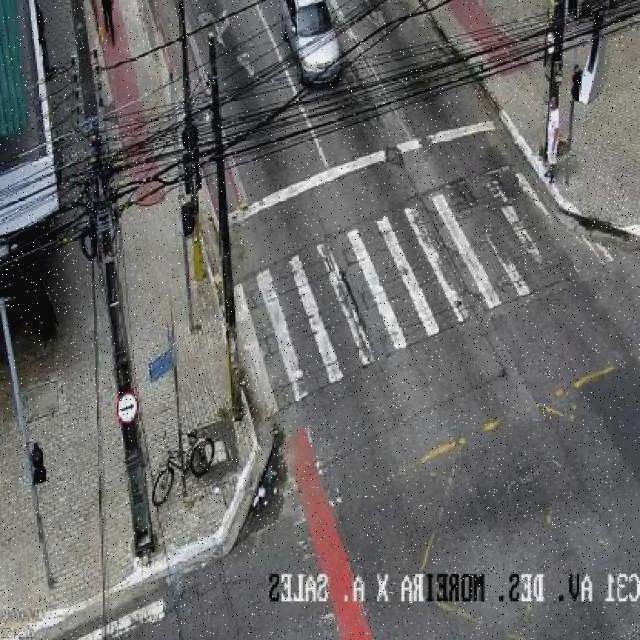Car: (290, 0, 361, 109)
